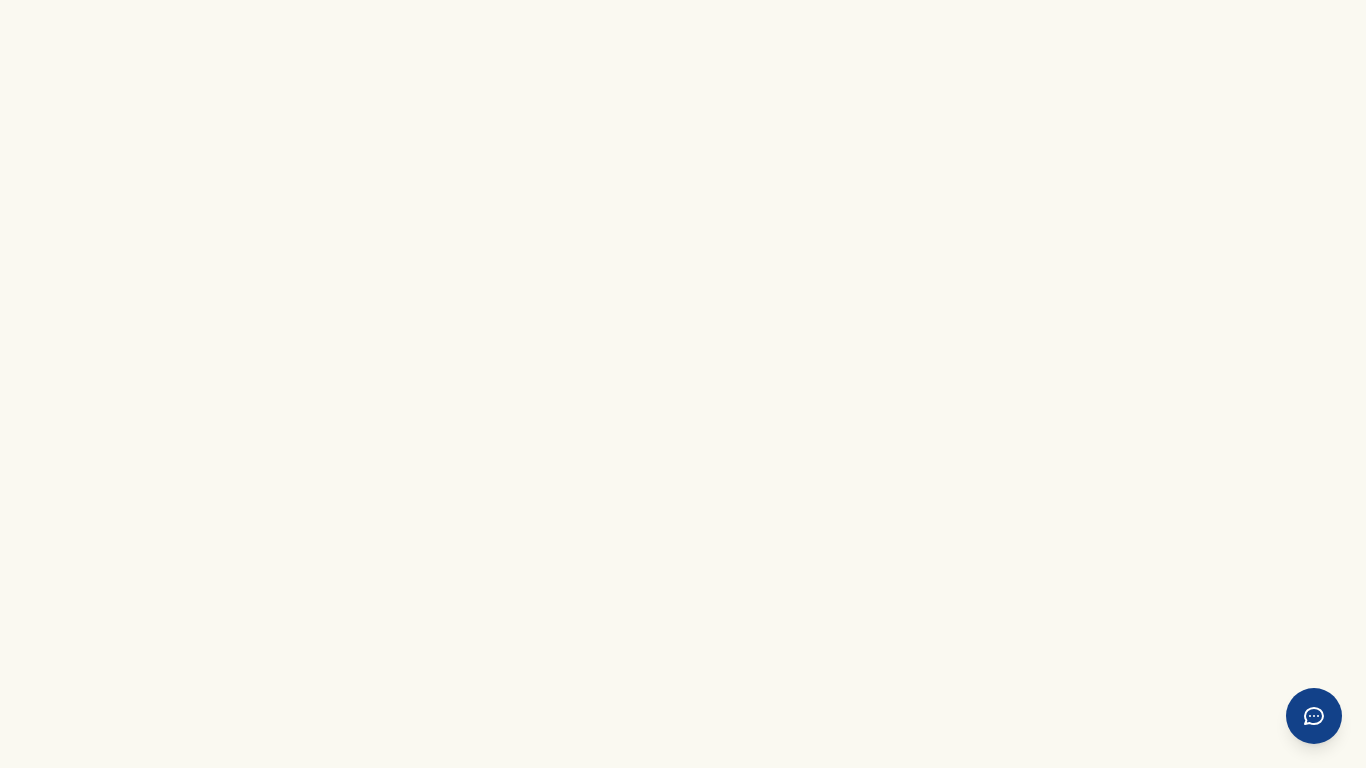
Test: ConciergeChat › renders HITL confirmation card when interrupted
Click the button named "open concierge" at (1314,716), box [1286,688,1342,744]
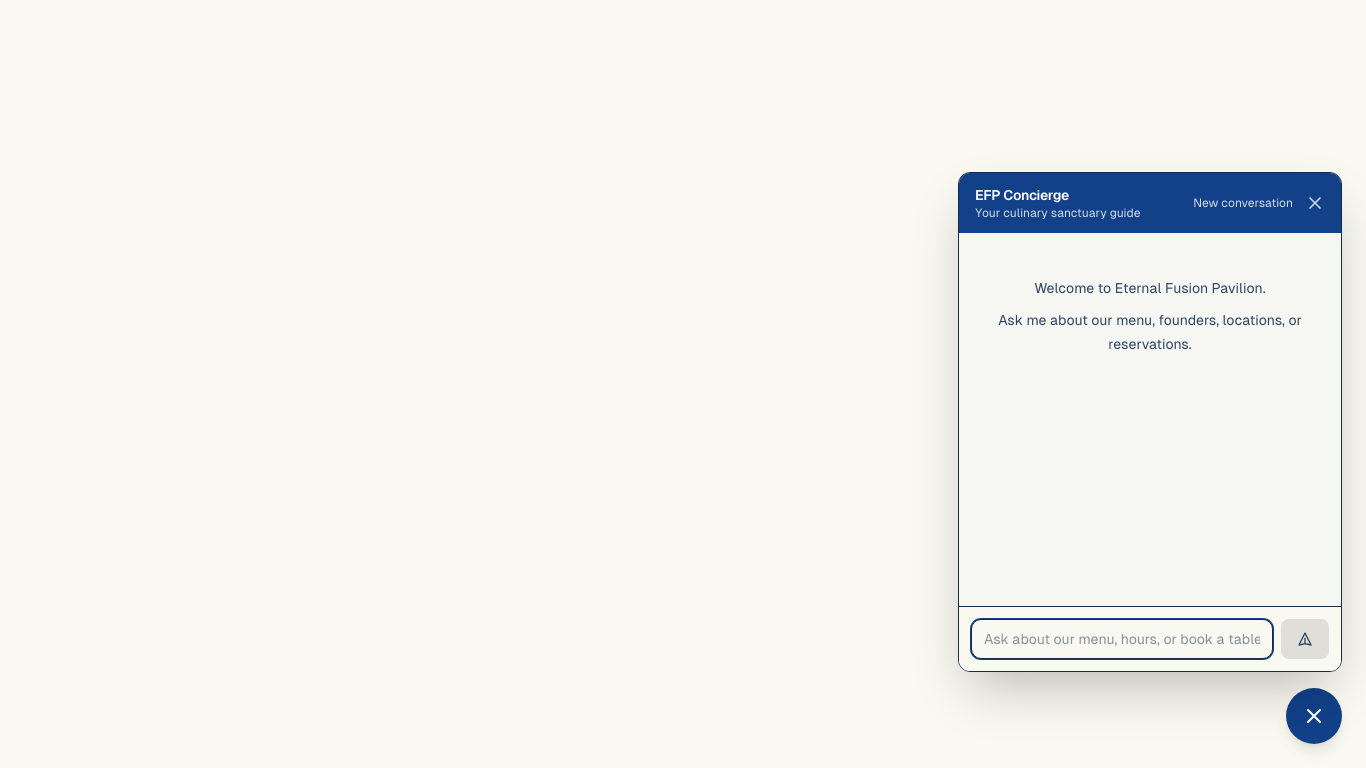
Type "book a table for 4" into the field named "type your message" at (1122,639), box [971,619,1273,659]
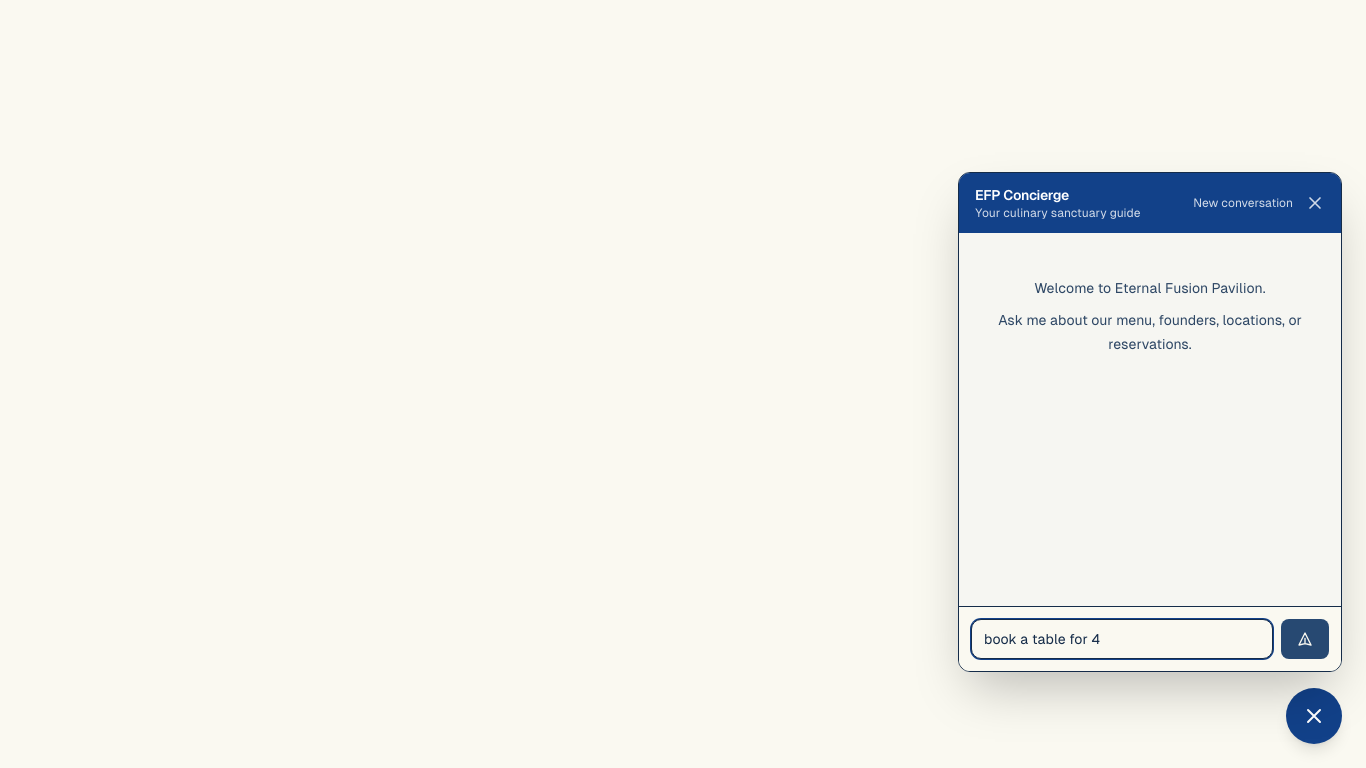
Press Enter in the field named "type your message", box [971,619,1273,659]
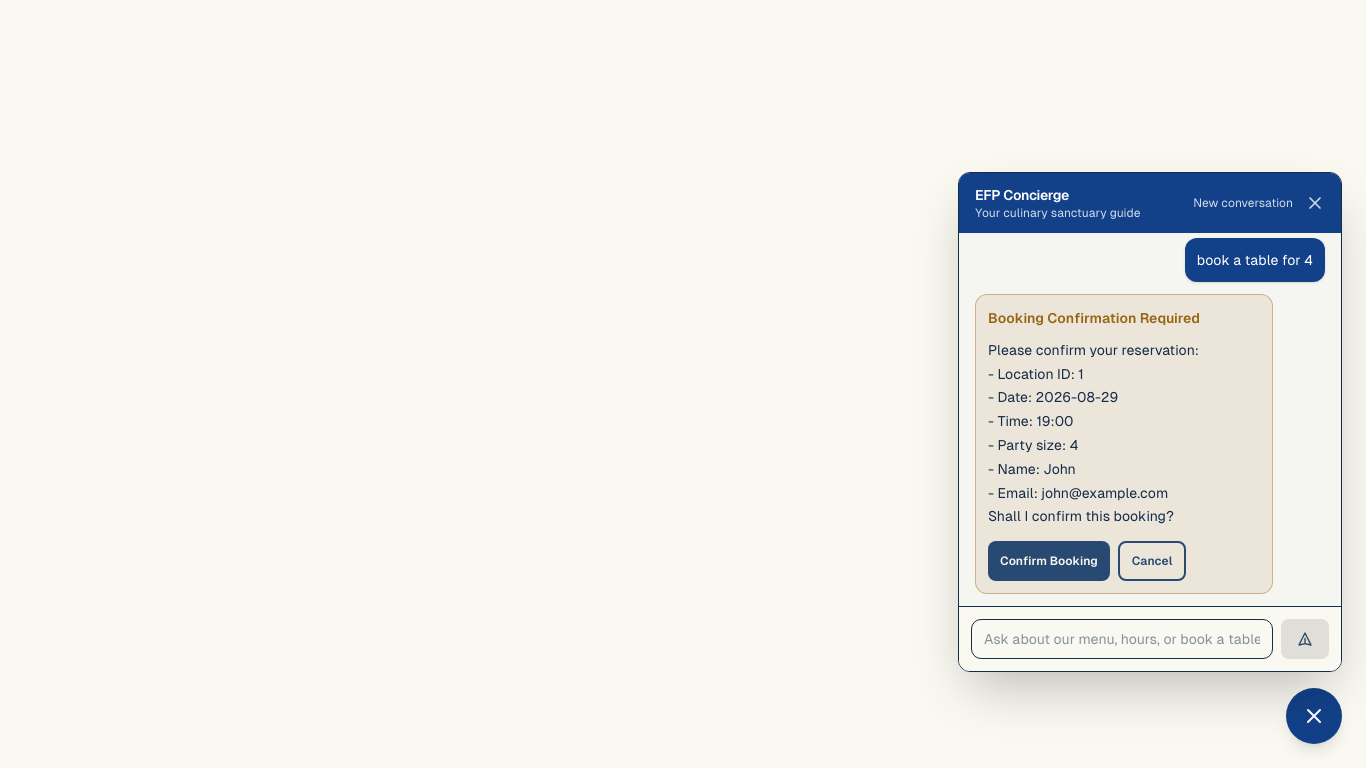
Expected: the text "Booking Confirmation Required" is shown, [988,310,1200,326]
Expected: the button "Confirm Booking" is shown, [988,541,1110,581]
Expected: the button "Cancel" is shown, [1118,541,1186,581]
